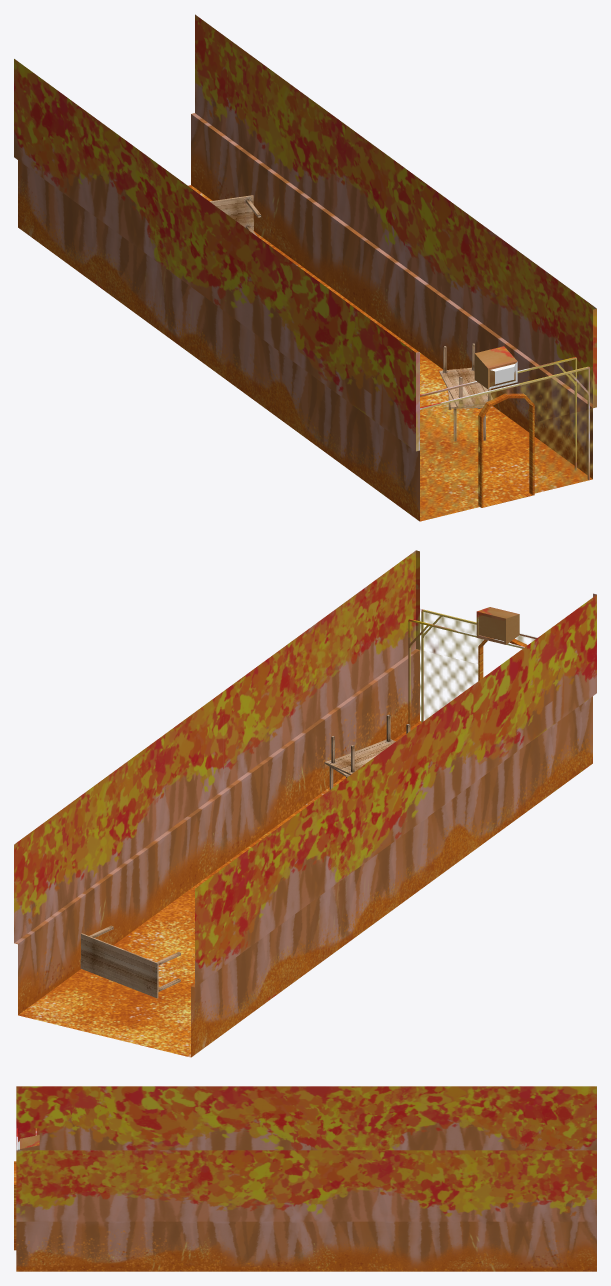
File: corridor2_1.glb
The picture shows the model from 3 angles, top to bottom: view 1: azimuth 30°, elevation 25°; view 2: azimuth 150°, elevation 25°; view 3: azimuth 270°, elevation 25°; orthographic projection. The views are drawn at different scales.
Visible parts, largest first — view 1: corridor_base.001, table_mesh.005, table_mesh.002; view 2: corridor_base.001, table_mesh.002, table_mesh.005; view 3: corridor_base.001.
Boxes of the visible parts, x1,y1,x2,y2 form: corridor_base.001: (14,14,596,521); table_mesh.005: (439,343,492,407); table_mesh.002: (209,195,261,236); corridor_base.001: (14,550,596,1057); table_mesh.002: (80,925,180,998); table_mesh.005: (326,714,410,774); corridor_base.001: (14,1086,596,1271).
Bounding box in the file's own units: 5.18 × 4.65 × 20.
2 materials, 2 textured.
